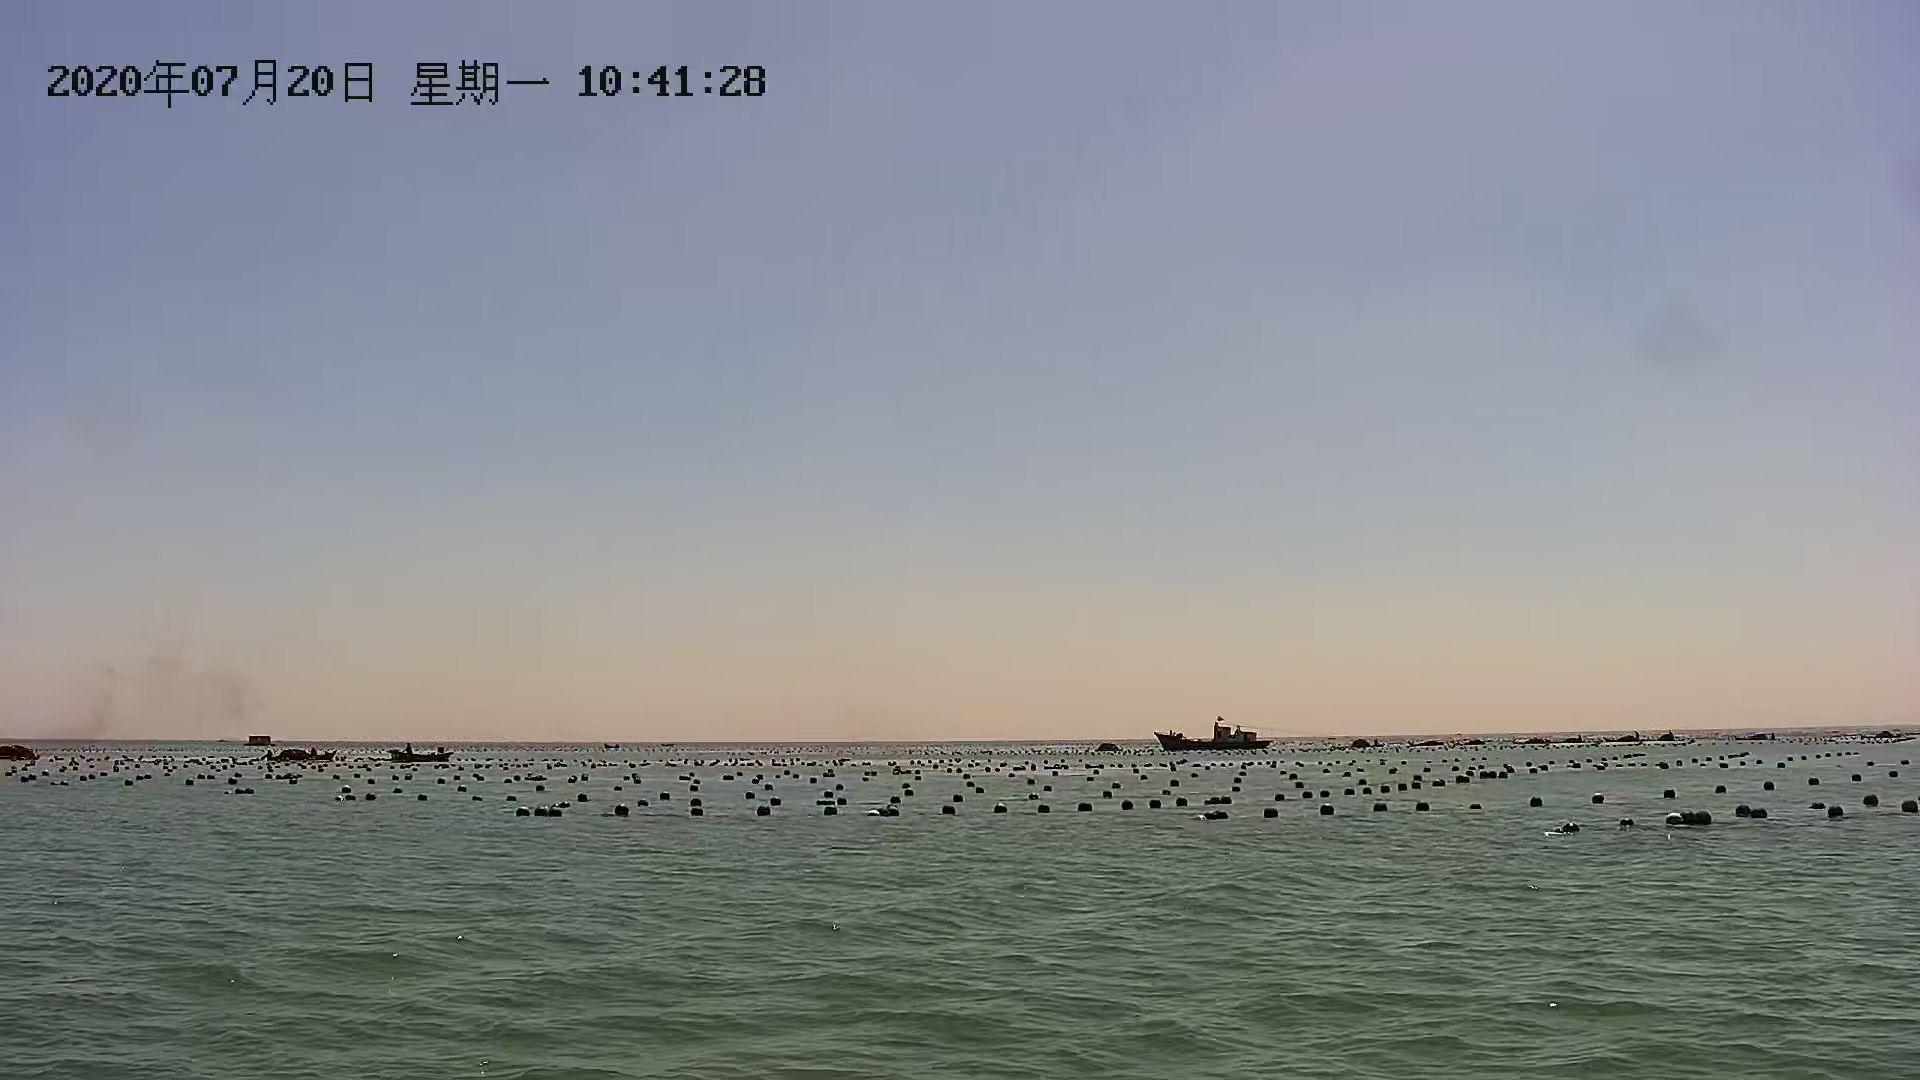ball: (1313, 800, 1338, 822), (1663, 811, 1687, 832), (1826, 800, 1850, 822), (612, 799, 634, 820), (1590, 787, 1611, 810), (1072, 796, 1096, 814), (992, 796, 1011, 816), (938, 799, 959, 818), (753, 802, 773, 820)
boat: (386, 745, 458, 767)
platform: (244, 732, 273, 752)
rubbish: (273, 746, 323, 765)
ship: (1150, 720, 1274, 752)
